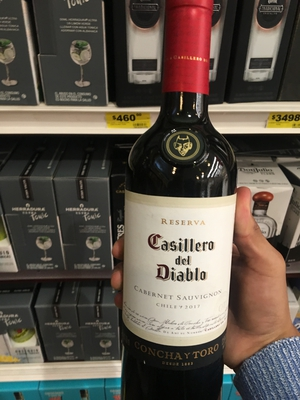casillero del diablo cabernet sauvignon: (123, 15, 238, 400)
